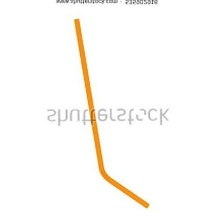drinking_straw: (66, 13, 155, 213)
